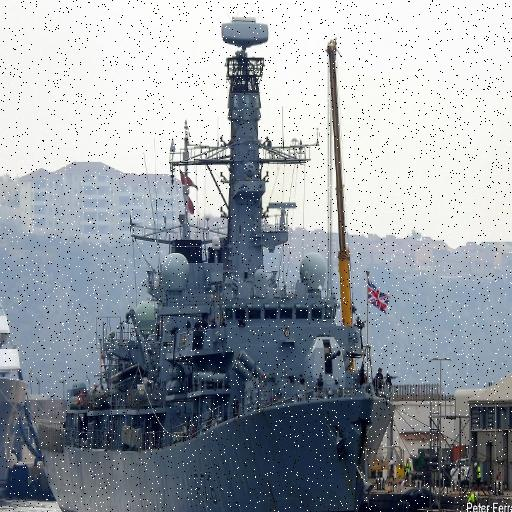Fragata: (35, 10, 402, 512)
